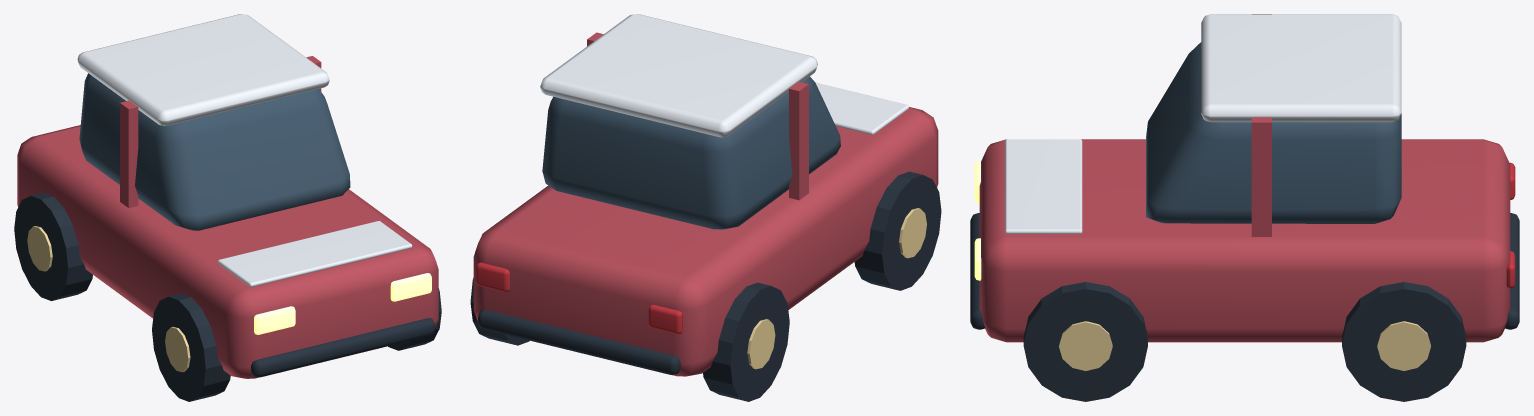
The model's file is pip.glb.
The picture shows the model from 3 angles, left to right: view 1: azimuth 30°, elevation 25°; view 2: azimuth 150°, elevation 25°; view 3: azimuth 270°, elevation 25°; orthographic projection. The views are drawn at different scales.
Visible parts, largest first — view 1: Exterior; view 2: Exterior; view 3: Exterior.
Part boxes in pixels (<box>): Exterior: <box>14,14,441,401</box>; Exterior: <box>470,14,941,401</box>; Exterior: <box>970,14,1519,401</box>.
Size of what is drawn, in the model's own units: 1.9 by 1.81 by 3.26.
